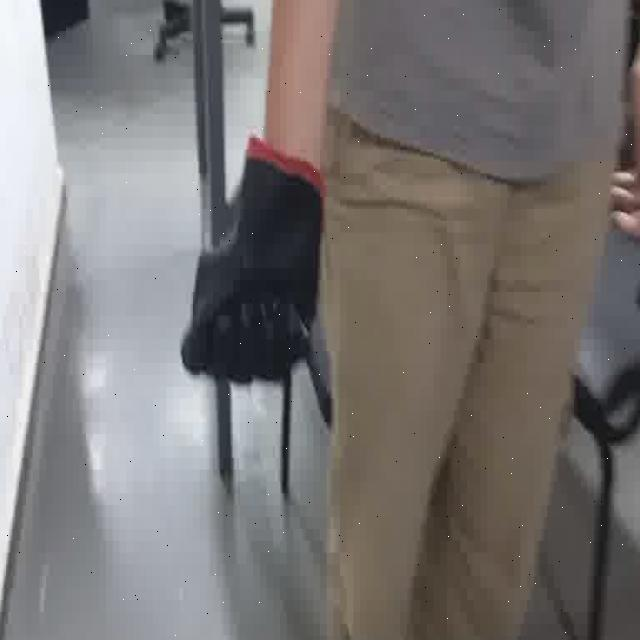Gloves: (181, 136, 327, 384)
